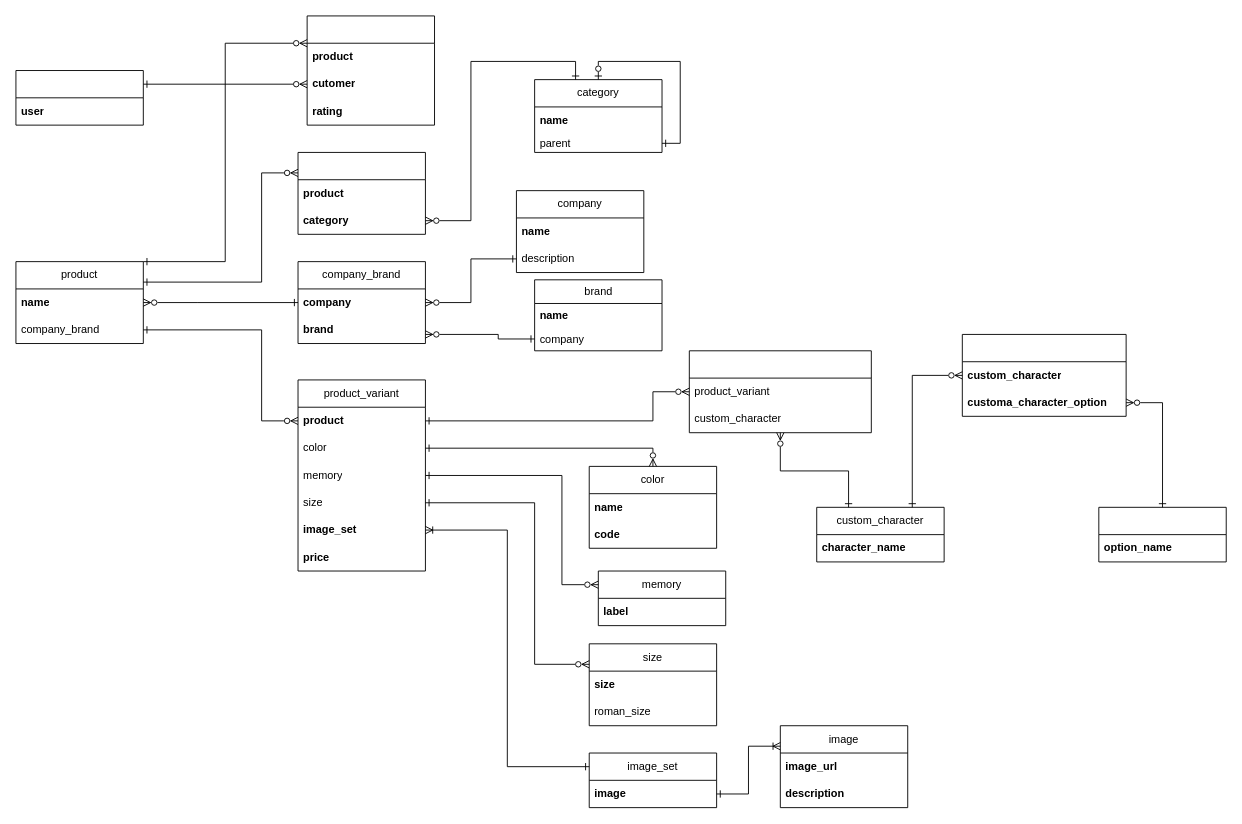
Some shapes in this 1242 by 824 pixel diagram are drawn without their labels. Each missing label, with the box of its shape:
custom_character_and_options: (961, 334, 1126, 416)
custom_character_option: (1098, 506, 1226, 562)
Customer: (15, 70, 143, 125)
product_category: (297, 152, 425, 234)
product_rating: (306, 15, 435, 125)
product_variant_custom_character: (688, 350, 871, 433)
